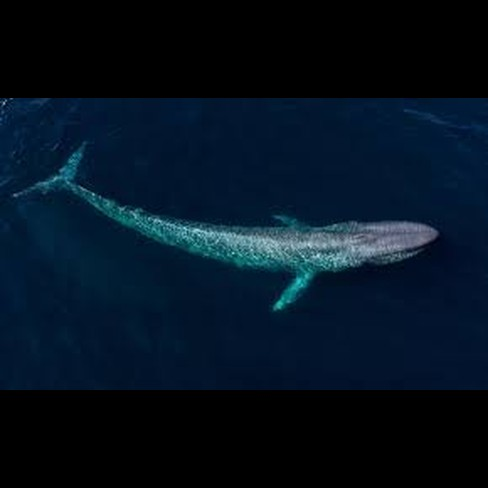bluewhale: (9, 138, 442, 320)
